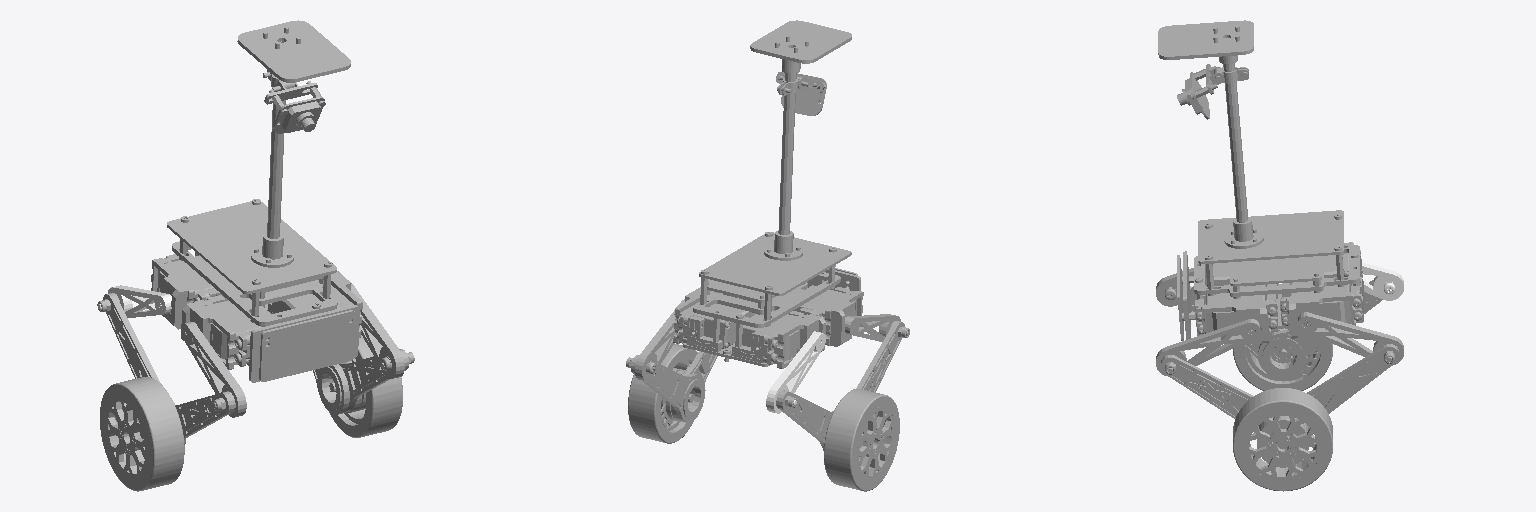
URDF robot description (wheel_leg_correct):
<?xml version="1.0" encoding="utf-8"?>
<!-- This URDF was automatically created by SolidWorks to URDF Exporter! Originally created by Stephen Brawner (brawner@gmail.com) 
     Commit Version: 1.6.0-4-g7f85cfe  Build Version: 1.6.7995.38578
     For more information, please see http://wiki.ros.org/sw_urdf_exporter -->
<robot
  name="wheel_leg_correct">
  <link
    name="base_link">
    <inertial>
      <origin
        xyz="-1.5926152029222E-05 -0.0109088236768348 0.0307895147236118"
        rpy="0 0 0" />
      <mass
        value="0.257107874090604" />
      <inertia
        ixx="0.00015330486719807"
        ixy="-8.75737516363516E-09"
        ixz="2.46536502904252E-08"
        iyy="6.03822423741166E-05"
        iyz="-8.01497858060152E-06"
        izz="0.00016352659095363" />
    </inertial>
    <visual>
      <origin
        xyz="0 0 0"
        rpy="0 0 0" />
      <geometry>
        <mesh
          filename="package://wheel_leg_correct/meshes/base_link.STL" />
      </geometry>
      <material
        name="">
        <color
          rgba="0.752941176470588 0.752941176470588 0.752941176470588 1" />
      </material>
    </visual>
    <collision>
      <origin
        xyz="0 0 0"
        rpy="0 0 0" />
      <geometry>
        <mesh
          filename="package://wheel_leg_correct/meshes/base_link.STL" />
      </geometry>
    </collision>
  </link>
  <link
    name="thigh_front_L">
    <inertial>
      <origin
        xyz="0.0357180653377639 0.0127711852777255 -0.00124102301683496"
        rpy="0 0 0" />
      <mass
        value="0.00899415738745603" />
      <inertia
        ixx="6.02734707896142E-07"
        ixy="-9.33899575867267E-07"
        ixz="2.02407611479121E-09"
        iyy="2.88071624732825E-06"
        iyz="7.23760506581532E-10"
        izz="3.35085357809018E-06" />
    </inertial>
    <visual>
      <origin
        xyz="0 0 0"
        rpy="0 0 0" />
      <geometry>
        <mesh
          filename="package://wheel_leg_correct/meshes/thigh_front_L.STL" />
      </geometry>
      <material
        name="">
        <color
          rgba="0.752941176470588 0.752941176470588 0.752941176470588 1" />
      </material>
    </visual>
    <collision>
      <origin
        xyz="0 0 0"
        rpy="0 0 0" />
      <geometry>
        <mesh
          filename="package://wheel_leg_correct/meshes/thigh_front_L.STL" />
      </geometry>
    </collision>
  </link>
  <joint
    name="hip_front_L_joint"
    type="revolute">
    <origin
      xyz="0.05745 -0.019622 0.010513"
      rpy="-1.5708 0.07747 -1.5708" />
    <parent
      link="base_link" />
    <child
      link="thigh_front_L" />
    <axis
      xyz="0 0 1" />
    <limit
      lower="-3.14"
      upper="3.14"
      effort="20"
      velocity="20" />
  </joint>
  <link
    name="calf_front_L">
    <inertial>
      <origin
        xyz="0.0509566286826386 0.00279531831166513 0.00720470856079711"
        rpy="0 0 0" />
      <mass
        value="0.0100512879761871" />
      <inertia
        ixx="5.19370422559841E-07"
        ixy="-4.92321911758408E-07"
        ixz="-2.72961268668614E-08"
        iyy="9.466920772695E-06"
        iyz="-1.50008636018705E-09"
        izz="9.95833150978184E-06" />
    </inertial>
    <visual>
      <origin
        xyz="0 0 0"
        rpy="0 0 0" />
      <geometry>
        <mesh
          filename="package://wheel_leg_correct/meshes/calf_front_L.STL" />
      </geometry>
      <material
        name="">
        <color
          rgba="0.752941176470588 0.752941176470588 0.752941176470588 1" />
      </material>
    </visual>
    <collision>
      <origin
        xyz="0 0 0"
        rpy="0 0 0" />
      <geometry>
        <mesh
          filename="package://wheel_leg_correct/meshes/calf_front_L.STL" />
      </geometry>
    </collision>
  </link>
  <joint
    name="knee_front_L_joint"
    type="revolute">
    <origin
      xyz="0.056497 0.020201 -0.00235"
      rpy="0 0 2.4451" />
    <parent
      link="thigh_front_L" />
    <child
      link="calf_front_L" />
    <axis
      xyz="0 0 -1" />
    <limit
      lower="-3.14"
      upper="3.14"
      effort="20"
      velocity="20" />
  </joint>
  <link
    name="wheel_L">
    <inertial>
      <origin
        xyz="-1.58375855170978E-05 1.00356590331113E-05 0.00665255193843409"
        rpy="0 0 0" />
      <mass
        value="0.069669449025636" />
      <inertia
        ixx="2.32496372096732E-05"
        ixy="5.36179799449269E-08"
        ixz="-1.21843905360839E-08"
        iyy="2.33006649143816E-05"
        iyz="7.70585217264112E-09"
        izz="4.15679675143328E-05" />
    </inertial>
    <visual>
      <origin
        xyz="0 0 0"
        rpy="0 0 0" />
      <geometry>
        <mesh
          filename="package://wheel_leg_correct/meshes/wheel_L.STL" />
      </geometry>
      <material
        name="">
        <color
          rgba="0.752941176470588 0.752941176470588 0.752941176470588 1" />
      </material>
    </visual>
    <collision>
      <origin
        xyz="0 0 0"
        rpy="0 0 0" />
      <geometry>
        <mesh
          filename="package://wheel_leg_correct/meshes/wheel_L.STL" />
      </geometry>
    </collision>
  </link>
  <joint
    name="ankle_L_joint"
    type="continuous">
    <origin
      xyz="0.090115 0.0049435 0.016"
      rpy="0 0 0.61898" />
    <parent
      link="calf_front_L" />
    <child
      link="wheel_L" />
    <axis
      xyz="0 0 1" />
  </joint>
  <link
    name="thigh_rear_L">
    <inertial>
      <origin
        xyz="0.034327 -0.016142 -0.001241"
        rpy="0 0 0" />
      <mass
        value="0.0089942" />
      <inertia
        ixx="8.0227E-07"
        ixy="1.1344E-06"
        ixz="1.9452E-09"
        iyy="2.6812E-06"
        iyz="-9.1478E-10"
        izz="3.3509E-06" />
    </inertial>
    <visual>
      <origin
        xyz="0 0 0"
        rpy="0 0 0" />
      <geometry>
        <mesh
          filename="package://wheel_leg_correct/meshes/thigh_rear_L.STL" />
      </geometry>
      <material
        name="">
        <color
          rgba="0.75294 0.75294 0.75294 1" />
      </material>
    </visual>
    <collision>
      <origin
        xyz="0 0 0"
        rpy="0 0 0" />
      <geometry>
        <mesh
          filename="package://wheel_leg_correct/meshes/thigh_rear_L.STL" />
      </geometry>
    </collision>
  </link>
  <joint
    name="hip_rear_L_joint"
    type="revolute">
    <origin
      xyz="0.0534500000000013 0.0177650586418615 0.0134151105643477"
      rpy="1.5707963267949 -0.0774695596885131 1.5707963267949" />
    <parent
      link="base_link" />
    <child
      link="thigh_rear_L" />
    <axis
      xyz="0 0 1" />
    <limit
      lower="-3.14"
      upper="3.14"
      effort="20"
      velocity="20" />
  </joint>
  <link
    name="calf_rear_L">
    <inertial>
      <origin
        xyz="0.0531526881085074 -0.0029158814184815 0.0090850828482823"
        rpy="0 0 0" />
      <mass
        value="0.0109305034895619" />
      <inertia
        ixx="5.72090057455469E-07"
        ixy="5.35787699997089E-07"
        ixz="8.85252179635803E-09"
        iyy="1.03095914276291E-05"
        iyz="-4.84487375220839E-10"
        izz="1.08473001026206E-05" />
    </inertial>
    <visual>
      <origin
        xyz="0 0 0"
        rpy="0 0 0" />
      <geometry>
        <mesh
          filename="package://wheel_leg_correct/meshes/calf_rear_L.STL" />
      </geometry>
      <material
        name="">
        <color
          rgba="0.752941176470588 0.752941176470588 0.752941176470588 1" />
      </material>
    </visual>
    <collision>
      <origin
        xyz="0 0 0"
        rpy="0 0 0" />
      <geometry>
        <mesh
          filename="package://wheel_leg_correct/meshes/calf_rear_L.STL" />
      </geometry>
    </collision>
  </link>
  <joint
    name="knee_rear_L_joint"
    type="revolute">
    <origin
      xyz="0.054296 -0.025533 -0.00435"
      rpy="0 0 -2.517" />
    <parent
      link="thigh_rear_L" />
    <child
      link="calf_rear_L" />
    <axis
      xyz="0 0 -1" />
    <limit
      lower="-3.14"
      upper="3.14"
      effort="20"
      velocity="20" />
  </joint>
  <link
    name="thigh_front_R">
    <inertial>
      <origin
        xyz="0.0357180653790256 -0.0127711852897369 -0.00124102301683492"
        rpy="0 0 0" />
      <mass
        value="0.00899415738745604" />
      <inertia
        ixx="6.02734707913697E-07"
        ixy="9.338995758932E-07"
        ixz="2.02407840959217E-09"
        iyy="2.8807162473107E-06"
        iyz="-7.23761169352074E-10"
        izz="3.35085357809019E-06" />
    </inertial>
    <visual>
      <origin
        xyz="0 0 0"
        rpy="0 0 0" />
      <geometry>
        <mesh
          filename="package://wheel_leg_correct/meshes/thigh_front_R.STL" />
      </geometry>
      <material
        name="">
        <color
          rgba="0.752941176470588 0.752941176470588 0.752941176470588 1" />
      </material>
    </visual>
    <collision>
      <origin
        xyz="0 0 0"
        rpy="0 0 0" />
      <geometry>
        <mesh
          filename="package://wheel_leg_correct/meshes/thigh_front_R.STL" />
      </geometry>
    </collision>
  </link>
  <joint
    name="hip_front_R_joint"
    type="revolute">
    <origin
      xyz="-0.05745 -0.019622 0.010513"
      rpy="1.5708 0.07747 -1.5708" />
    <parent
      link="base_link" />
    <child
      link="thigh_front_R" />
    <axis
      xyz="0 0 1" />
    <limit
      lower="-3.14"
      upper="3.14"
      effort="20"
      velocity="20" />
  </joint>
  <link
    name="calf_front_R">
    <inertial>
      <origin
        xyz="0.050957 -0.0027955 0.0092047"
        rpy="0 0 0" />
      <mass
        value="0.010051" />
      <inertia
        ixx="5.1937E-07"
        ixy="4.9232E-07"
        ixz="-2.7291E-08"
        iyy="9.4669E-06"
        iyz="1.4974E-09"
        izz="9.9583E-06" />
    </inertial>
    <visual>
      <origin
        xyz="0 0 0"
        rpy="0 0 0" />
      <geometry>
        <mesh
          filename="package://wheel_leg_correct/meshes/calf_front_R.STL" />
      </geometry>
      <material
        name="">
        <color
          rgba="0.75294 0.75294 0.75294 1" />
      </material>
    </visual>
    <collision>
      <origin
        xyz="0 0 0"
        rpy="0 0 0" />
      <geometry>
        <mesh
          filename="package://wheel_leg_correct/meshes/calf_front_R.STL" />
      </geometry>
    </collision>
  </link>
  <joint
    name="knee_front_R_joint"
    type="revolute">
    <origin
      xyz="0.056497 -0.020201 -0.00435"
      rpy="0 0 -2.4451" />
    <parent
      link="thigh_front_R" />
    <child
      link="calf_front_R" />
    <axis
      xyz="0 0 -1" />
    <limit
      lower="-3.14"
      upper="3.14"
      effort="20"
      velocity="20" />
  </joint>
  <link
    name="wheel_R">
    <inertial>
      <origin
        xyz="-1.58098813599523E-05 -1.0028024284979E-05 0.00665255186634812"
        rpy="0 0 0" />
      <mass
        value="0.069669449025636" />
      <inertia
        ixx="2.32496896323803E-05"
        ixy="-5.37207902581839E-08"
        ixz="-1.21969212006706E-08"
        iyy="2.33006124916745E-05"
        iyz="-7.70921853874275E-09"
        izz="4.15679675143329E-05" />
    </inertial>
    <visual>
      <origin
        xyz="0 0 0"
        rpy="0 0 0" />
      <geometry>
        <mesh
          filename="package://wheel_leg_correct/meshes/wheel_R.STL" />
      </geometry>
      <material
        name="">
        <color
          rgba="0.752941176470588 0.752941176470588 0.752941176470588 1" />
      </material>
    </visual>
    <collision>
      <origin
        xyz="0 0 0"
        rpy="0 0 0" />
      <geometry>
        <mesh
          filename="package://wheel_leg_correct/meshes/wheel_R.STL" />
      </geometry>
    </collision>
  </link>
  <joint
    name="ankle_R_joint"
    type="continuous">
    <origin
      xyz="0.090115 -0.0049435 0.018"
      rpy="0 0 -0.61898" />
    <parent
      link="calf_front_R" />
    <child
      link="wheel_R" />
    <axis
      xyz="0 0 1" />
  </joint>
  <link
    name="thigh_rear_R">
    <inertial>
      <origin
        xyz="0 0 0"
        rpy="0 0 0" />
      <mass
        value="0" />
      <inertia
        ixx="0"
        ixy="0"
        ixz="0"
        iyy="0"
        iyz="0"
        izz="0" />
    </inertial>
    <visual>
      <origin
        xyz="0 0 0"
        rpy="0 0 0" />
      <geometry>
        <mesh
          filename="package://wheel_leg_correct/meshes/thigh_rear_R.STL" />
      </geometry>
      <material
        name="">
        <color
          rgba="1 1 1 1" />
      </material>
    </visual>
    <collision>
      <origin
        xyz="0 0 0"
        rpy="0 0 0" />
      <geometry>
        <mesh
          filename="package://wheel_leg_correct/meshes/thigh_rear_R.STL" />
      </geometry>
    </collision>
  </link>
  <joint
    name="hip_rear_R_joint"
    type="revolute">
    <origin
      xyz="-0.0534499999999989 0.01776505864177 0.0134151105643781"
      rpy="-1.5707963267949 -0.0774695596885131 1.5707963267949" />
    <parent
      link="base_link" />
    <child
      link="thigh_rear_R" />
    <axis
      xyz="0 0 1" />
    <limit
      lower="-3.14"
      upper="3.14"
      effort="20"
      velocity="20" />
  </joint>
  <link
    name="calf_rear_R">
    <inertial>
      <origin
        xyz="0.0531524108033453 0.00291576900512113 0.00908508284828183"
        rpy="0 0 0" />
      <mass
        value="0.0109305034895619" />
      <inertia
        ixx="5.72089893492899E-07"
        ixy="-5.3578753100627E-07"
        ixz="8.84785727984813E-09"
        iyy="1.03095915915917E-05"
        iyz="4.82596485318305E-10"
        izz="1.08473001026206E-05" />
    </inertial>
    <visual>
      <origin
        xyz="0 0 0"
        rpy="0 0 0" />
      <geometry>
        <mesh
          filename="package://wheel_leg_correct/meshes/calf_rear_R.STL" />
      </geometry>
      <material
        name="">
        <color
          rgba="0.752941176470588 0.752941176470588 0.752941176470588 1" />
      </material>
    </visual>
    <collision>
      <origin
        xyz="0 0 0"
        rpy="0 0 0" />
      <geometry>
        <mesh
          filename="package://wheel_leg_correct/meshes/calf_rear_R.STL" />
      </geometry>
    </collision>
  </link>
  <joint
    name="knee_rear_R_joint"
    type="revolute">
    <origin
      xyz="0.054296 0.025533 -0.00435"
      rpy="0 0 2.517" />
    <parent
      link="thigh_rear_R" />
    <child
      link="calf_rear_R" />
    <axis
      xyz="0 0 -1" />
    <limit
      lower="-3.14"
      upper="3.14"
      effort="20"
      velocity="20" />
  </joint>
</robot>

--- What the picture shows (computed from the rendered views, not written in the file) ---
The picture shows the robot from 3 angles, left to right: view 1: azimuth 30°, elevation 25°; view 2: azimuth 150°, elevation 25°; view 3: azimuth 270°, elevation 25°; orthographic projection.
Model wheel_leg_correct with 11 links and 10 joints (8 revolute, 2 continuous), rooted at base_link, posed every joint at zero.
Visible links, largest first — view 1: base_link, wheel_R, wheel_L, thigh_front_R, calf_rear_R, thigh_front_L, calf_front_R, calf_front_L, thigh_rear_R, calf_rear_L; view 2: base_link, wheel_R, wheel_L, calf_rear_L, thigh_rear_R, calf_rear_R, thigh_rear_L, calf_front_R, thigh_front_R, calf_front_L; view 3: base_link, wheel_L, wheel_R, calf_rear_L, calf_front_L, thigh_rear_L, thigh_front_L, calf_rear_R, thigh_rear_R, thigh_front_R.
Boxes of the visible links, x1,y1,x2,y2 form: base_link: (151,20,362,382); wheel_R: (100,377,184,491); wheel_L: (329,335,402,437); thigh_front_R: (181,322,246,417); calf_rear_R: (97,293,185,444); thigh_front_L: (351,284,404,378); calf_front_R: (175,391,235,439); calf_front_L: (329,349,414,412); thigh_rear_R: (98,285,171,317); calf_rear_L: (313,364,349,414); base_link: (673,20,863,368); wheel_R: (824,389,899,491); wheel_L: (628,343,697,443); calf_rear_L: (626,355,705,422); thigh_rear_R: (766,331,825,413); calf_rear_R: (776,390,833,450); thigh_rear_L: (635,299,684,381); calf_front_R: (856,321,909,391); thigh_front_R: (845,314,909,341); calf_front_L: (671,351,717,420); base_link: (1158,20,1363,344); wheel_L: (1233,388,1332,491); wheel_R: (1233,328,1332,390); calf_rear_L: (1307,344,1398,428); calf_front_L: (1161,355,1254,432); thigh_rear_L: (1298,312,1403,365); thigh_front_L: (1156,319,1259,376); calf_rear_R: (1258,280,1382,378); thigh_rear_R: (1362,262,1403,300); thigh_front_R: (1156,268,1196,306).
Size in the robot's own frame: 0.1772 by 0.1681 by 0.3027 metres.
11 mesh visuals loaded from 11 distinct referenced files (11 binary STL).
